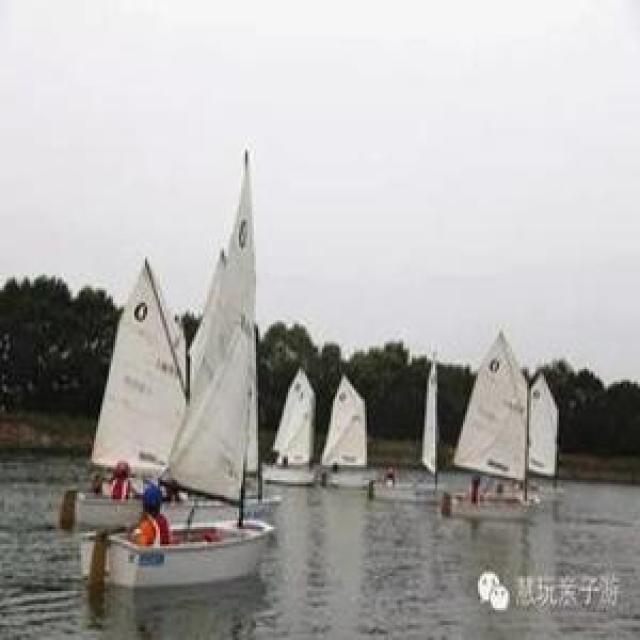sailboat: (78, 148, 267, 602), (55, 256, 192, 535), (446, 328, 526, 527), (312, 370, 385, 500), (390, 351, 450, 503), (255, 356, 317, 484), (520, 370, 572, 511)
